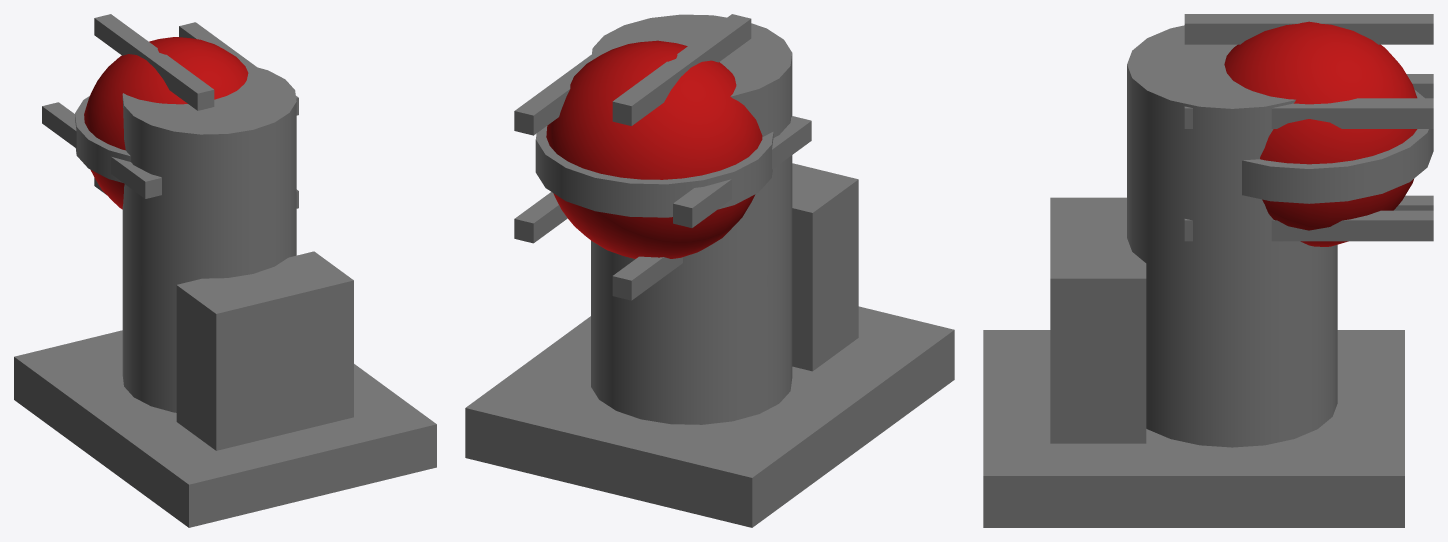
The model's file is AlarmBeacon.fbx.
3 views of the same model, side by side, from view 1: azimuth 30°, elevation 25°; view 2: azimuth 150°, elevation 25°; view 3: azimuth 270°, elevation 25° (orthographic). The views are drawn at different scales.
Visible parts, largest first — view 1: Housing, BackPlate, Arm, LensDome, Bar_01, Bar_00, Ring, Bar_02; view 2: BackPlate, Housing, LensDome, Arm, Ring, Bar_01, Bar_00, Bar_02, Bar_04, Bar_03; view 3: Housing, BackPlate, Arm, LensDome, Ring, Bar_01, Bar_02, Bar_03, Bar_04.
Part boxes in pixels (bbox=[...]): Housing: bbox=[122, 64, 296, 412]; BackPlate: bbox=[14, 330, 436, 527]; Arm: bbox=[176, 251, 353, 450]; LensDome: bbox=[84, 37, 248, 209]; Bar_01: bbox=[94, 14, 214, 110]; Bar_00: bbox=[42, 102, 161, 198]; Ring: bbox=[75, 96, 130, 182]; Bar_02: bbox=[179, 22, 298, 115]; BackPlate: bbox=[465, 306, 954, 527]; Housing: bbox=[591, 14, 792, 424]; LensDome: bbox=[546, 40, 762, 258]; Arm: bbox=[792, 163, 858, 371]; Ring: bbox=[535, 126, 773, 217]; Bar_01: bbox=[612, 14, 751, 125]; Bar_00: bbox=[673, 116, 811, 227]; Bar_02: bbox=[514, 55, 591, 135]; Bar_04: bbox=[612, 256, 682, 300]; Bar_03: bbox=[514, 192, 567, 243]; Housing: bbox=[1127, 25, 1337, 447]; BackPlate: bbox=[983, 330, 1404, 527]; Arm: bbox=[1050, 197, 1146, 443]; LensDome: bbox=[1224, 21, 1417, 246]; Ring: bbox=[1242, 89, 1433, 203]; Bar_01: bbox=[1184, 14, 1433, 44]; Bar_02: bbox=[1184, 98, 1433, 128]; Bar_03: bbox=[1184, 210, 1433, 241]; Bar_04: bbox=[1394, 195, 1433, 210].
Size of the model in its own units: 18 by 24.5 by 23.5.
